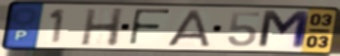1: (47, 8, 66, 45)
5: (226, 10, 263, 48)
A: (165, 9, 212, 48)
F: (127, 8, 174, 48)
H: (79, 7, 127, 48)
M: (255, 9, 313, 51)
